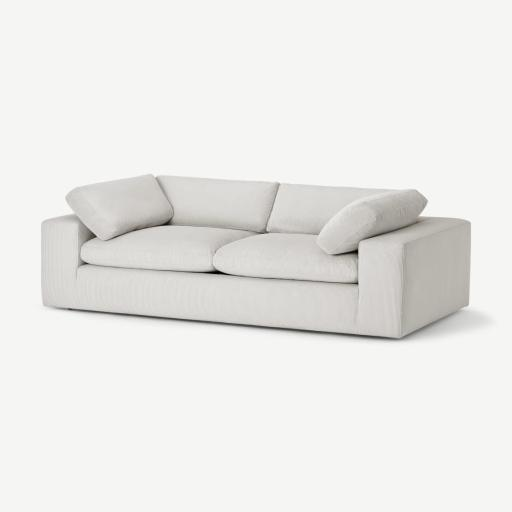back_cushion: (66, 174, 427, 254)
base: (62, 265, 358, 334)
left_arm: (358, 218, 470, 337)
right_arm: (41, 215, 94, 308)
seat_cushion: (81, 226, 357, 283)
two-seater: (0, 0, 511, 512)
